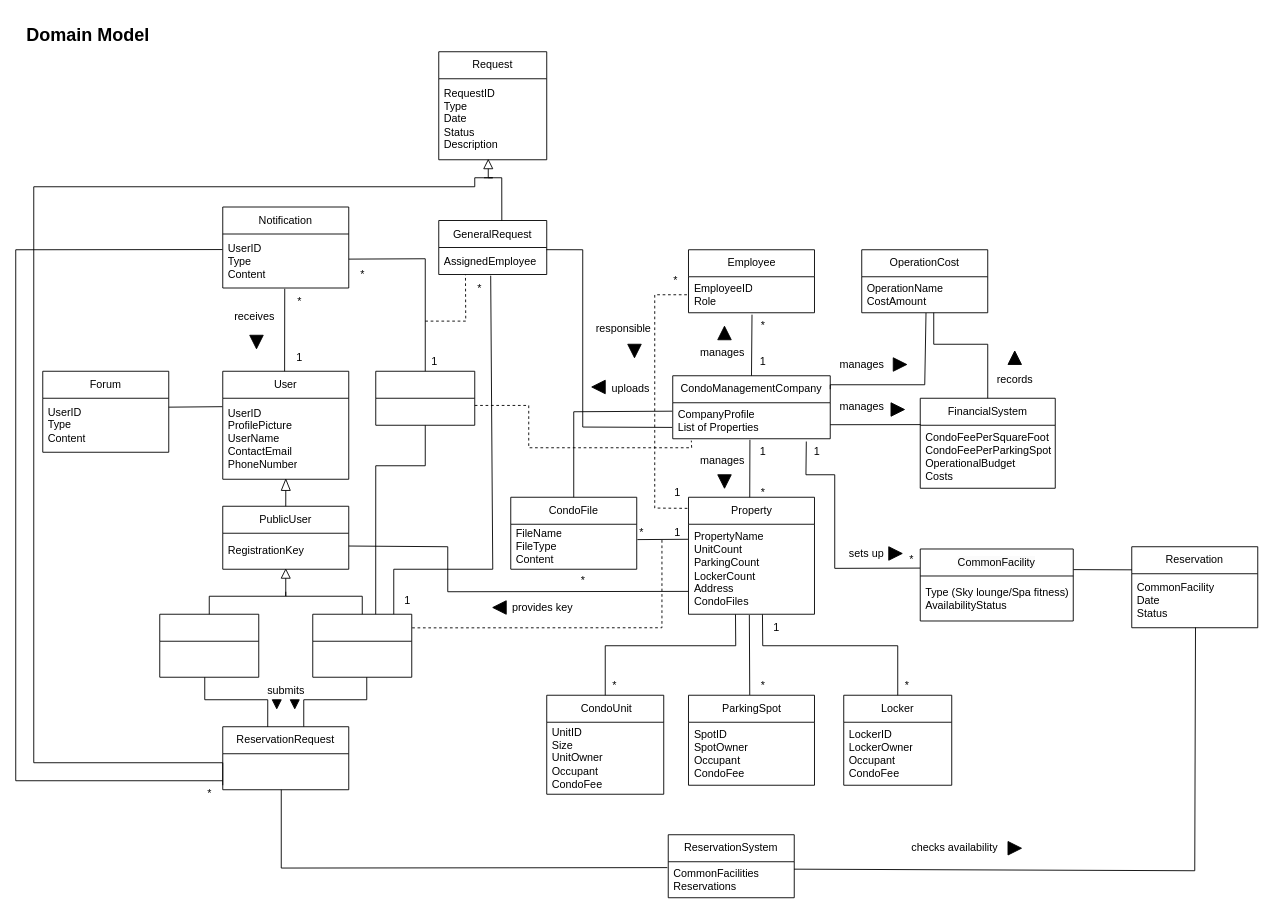
This 1274x914 diagram has some shape labels left out. Each missing label, with the centre of its shape:
"CondoOwner" belongs at (x=362, y=645).
"Dashboard" belongs at (x=425, y=397).
"RentalUser" belongs at (x=209, y=645).
